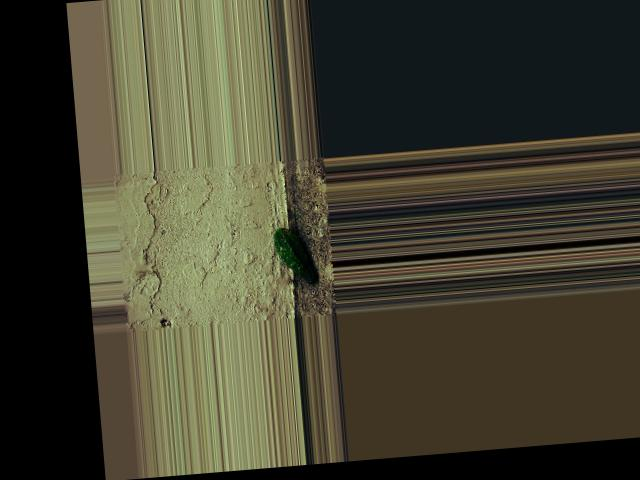cucumber: (272, 225, 317, 285)
